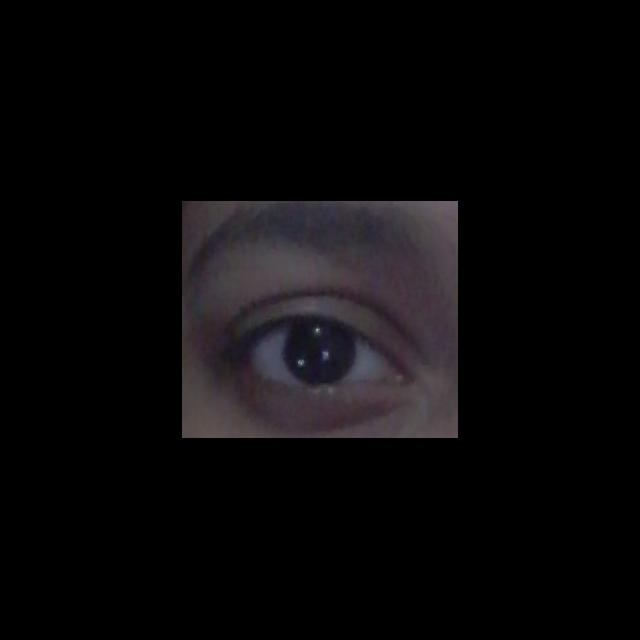eye: (246, 320, 394, 387)
iris: (283, 325, 354, 381)
